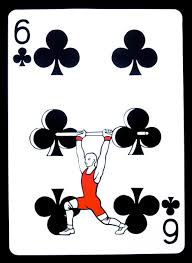six of hearts: (8, 8, 184, 254)
